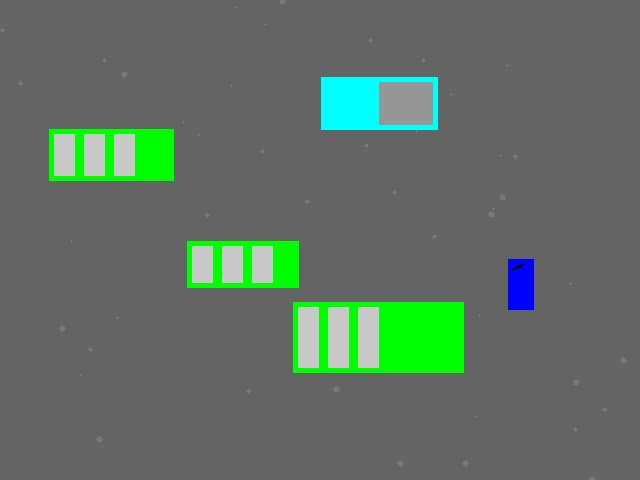bus: (293, 302, 463, 372), (49, 129, 173, 180), (187, 241, 298, 287)
motorcycle: (508, 259, 533, 309)
truck: (321, 77, 437, 129)
